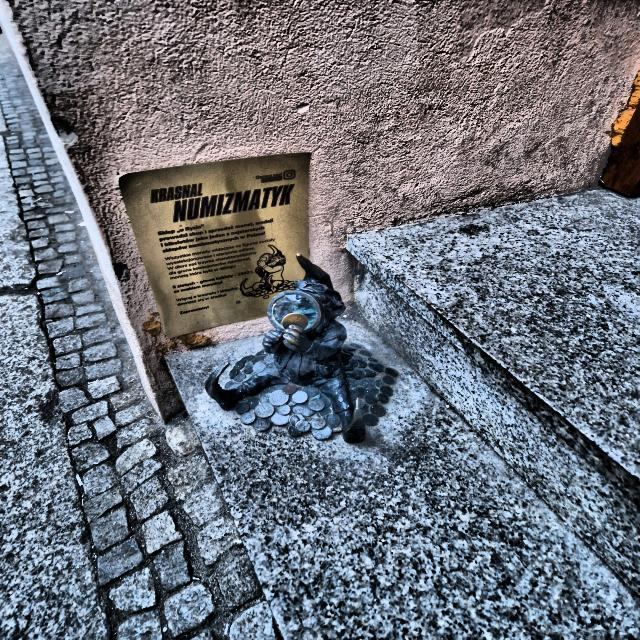Numizmatyk: (205, 254, 398, 442)
